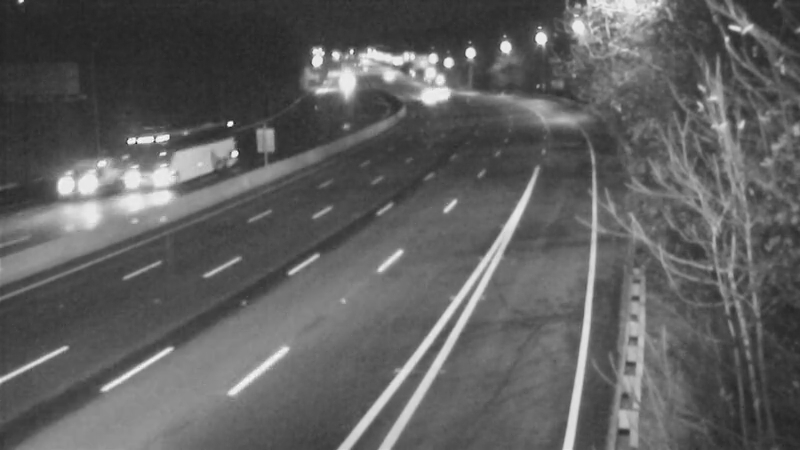vehicle: (38, 147, 118, 227), (113, 137, 193, 217), (417, 65, 467, 115), (392, 70, 442, 120)
